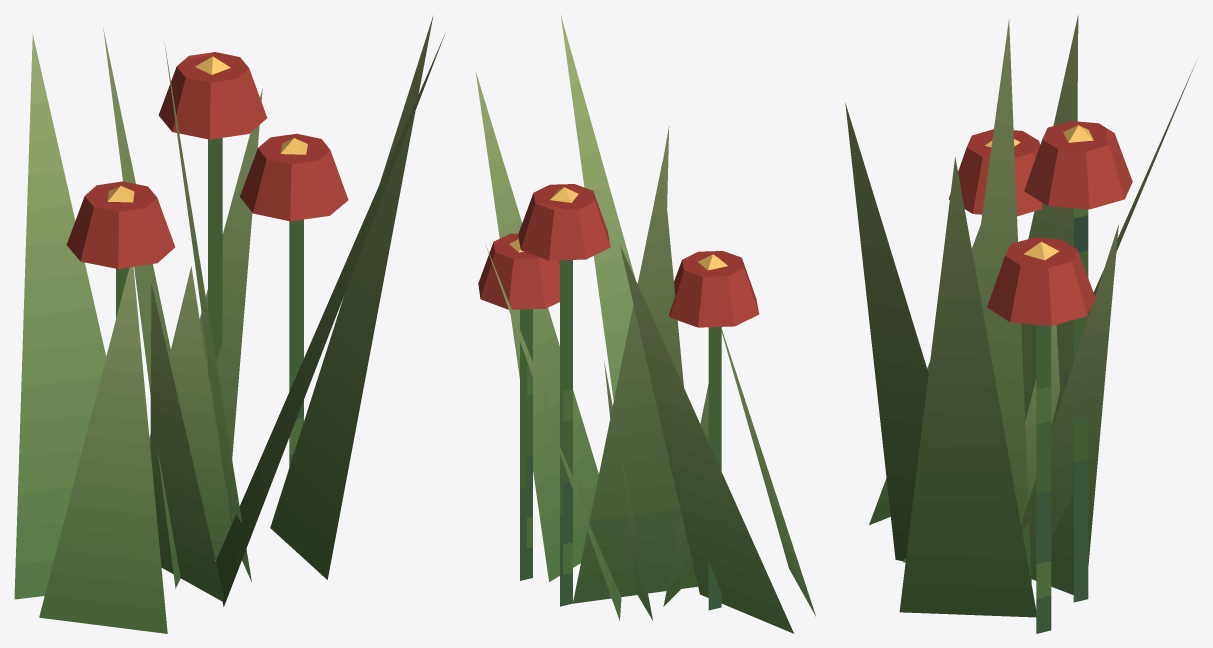
File: grass_flower_3.glb
3 renders of one model, left to right at view 1: azimuth 30°, elevation 25°; view 2: azimuth 150°, elevation 25°; view 3: azimuth 270°, elevation 25°, orthographic. The views are drawn at different scales.
Visible parts, largest first — view 1: grass_flower_4; view 2: grass_flower_4; view 3: grass_flower_4.
Part boxes in pixels (x1,y1,x2,y2): grass_flower_4: [14, 16, 445, 633]; grass_flower_4: [475, 15, 815, 633]; grass_flower_4: [845, 15, 1196, 633].
Size of the model in its own units: 0.3699 by 0.498 by 0.2869.
4 materials, 4 textured.
